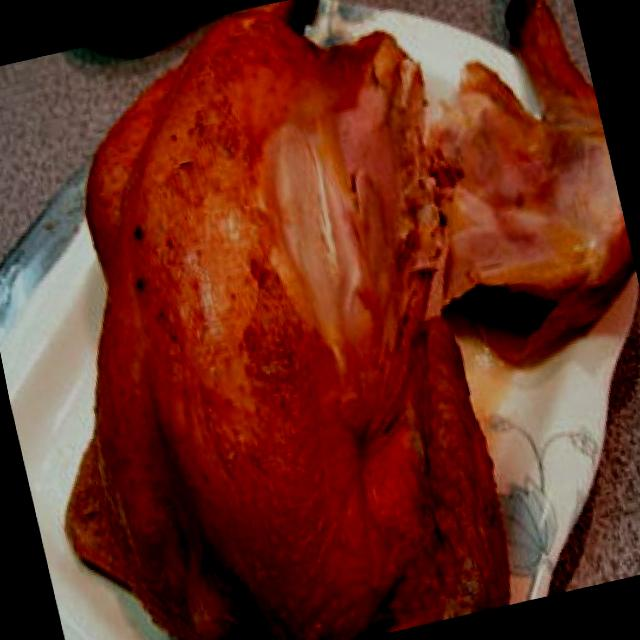Chicken: (0, 0, 523, 640)
